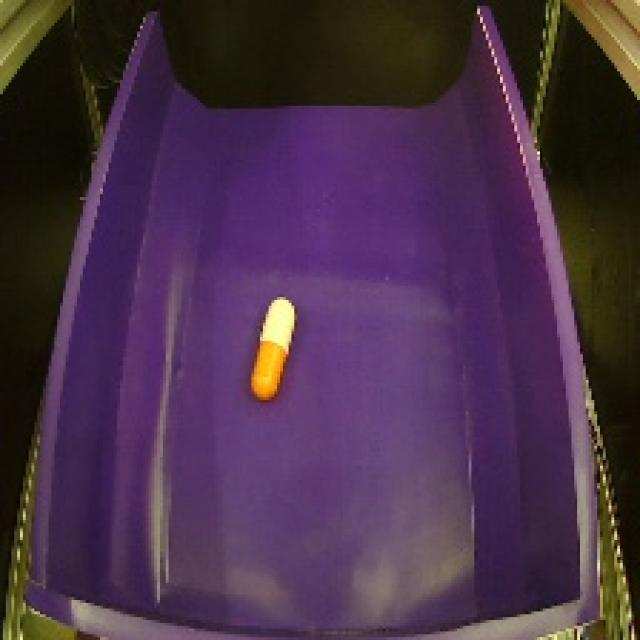small: (245, 291, 308, 403)
